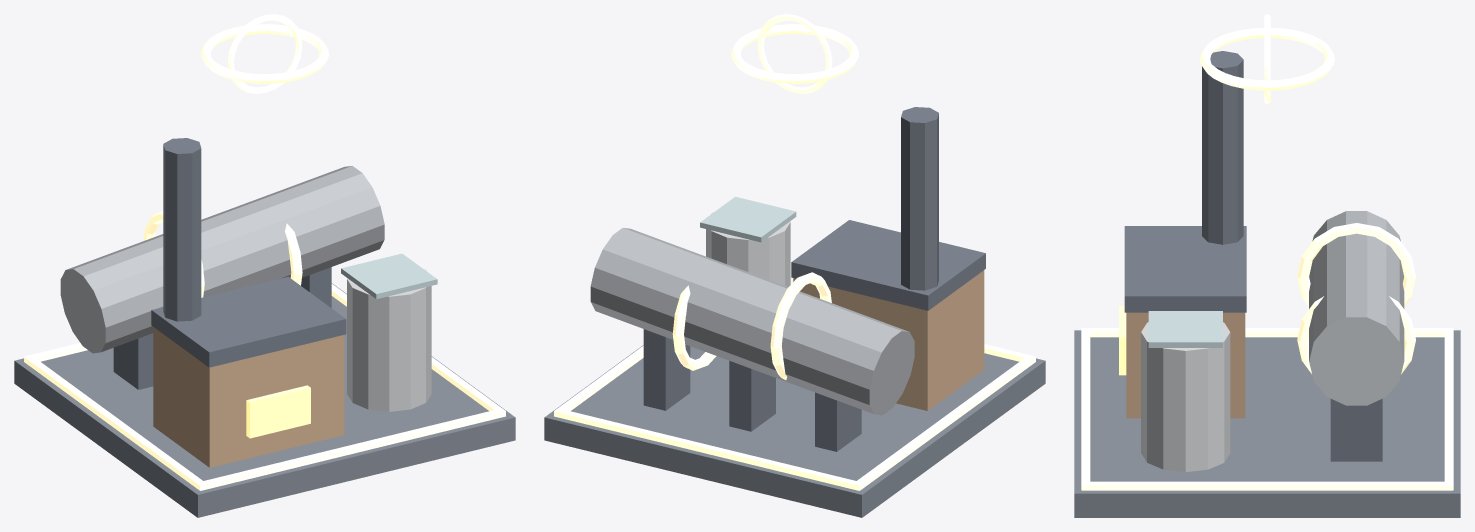
Rendered from inorganic_works.glb.
3 views of the same model, side by side, from view 1: azimuth 30°, elevation 25°; view 2: azimuth 150°, elevation 25°; view 3: azimuth 270°, elevation 25° (orthographic). The views are drawn at different scales.
Visible parts, largest first — view 1: Cube, Cylinder, Cube.008, Cube.009, Cylinder.002, Cylinder.001, Cube.001, Cube.011, Torus.002, Cube.010, Cube.002, Cube.005 (+4 smaller); view 2: Cube, Cylinder, Cube.008, Cube.009, Cylinder.001, Cylinder.002, Cube.003, Cube.007, Cube.006, Cube.011, Torus.002, Cube.002 (+5 smaller); view 3: Cube, Cylinder, Cylinder.002, Cube.009, Cylinder.001, Cube.004, Cube.008, Cube.007, Torus.002, Cube.011, Torus, Cube.001 (+5 smaller).
Boxes of the visible parts, box(x1,y1,x2,y2) form: Cube: box(14, 283, 515, 517); Cylinder: box(60, 166, 384, 353); Cube.008: box(153, 327, 344, 467); Cube.009: box(151, 276, 346, 367); Cylinder.002: box(347, 269, 431, 411); Cylinder.001: box(163, 138, 201, 321); Cube.001: box(197, 410, 505, 490); Cube.011: box(341, 253, 437, 299); Torus.002: box(201, 24, 328, 83); Cube.010: box(246, 385, 310, 438); Cube.002: box(24, 355, 206, 490); Cube.005: box(113, 333, 153, 389); Cube: box(544, 345, 1045, 517); Cylinder: box(590, 228, 914, 415); Cube.008: box(793, 270, 984, 410); Cube.009: box(791, 220, 985, 310); Cylinder.001: box(901, 107, 938, 290); Cylinder.002: box(706, 212, 790, 286); Cube.003: box(554, 410, 862, 490); Cube.007: box(643, 329, 690, 410); Cube.006: box(729, 361, 775, 431); Cube.011: box(700, 196, 796, 242); Torus.002: box(731, 24, 858, 83); Cube.002: box(853, 356, 1035, 490); Cube: box(1074, 330, 1460, 517); Cylinder: box(1309, 211, 1404, 405); Cylinder.002: box(1141, 322, 1230, 472); Cube.009: box(1124, 226, 1246, 312); Cylinder.001: box(1202, 51, 1243, 244); Cube.004: box(1082, 481, 1452, 490); Cube.008: box(1126, 312, 1245, 418); Cube.007: box(1330, 398, 1382, 461); Torus.002: box(1200, 27, 1334, 90); Cube.011: box(1148, 311, 1222, 347); Torus: box(1297, 223, 1415, 306); Cube.001: box(1081, 328, 1090, 490).
Bounding box in the file's own units: 2.6 × 3.1 × 2.6.
